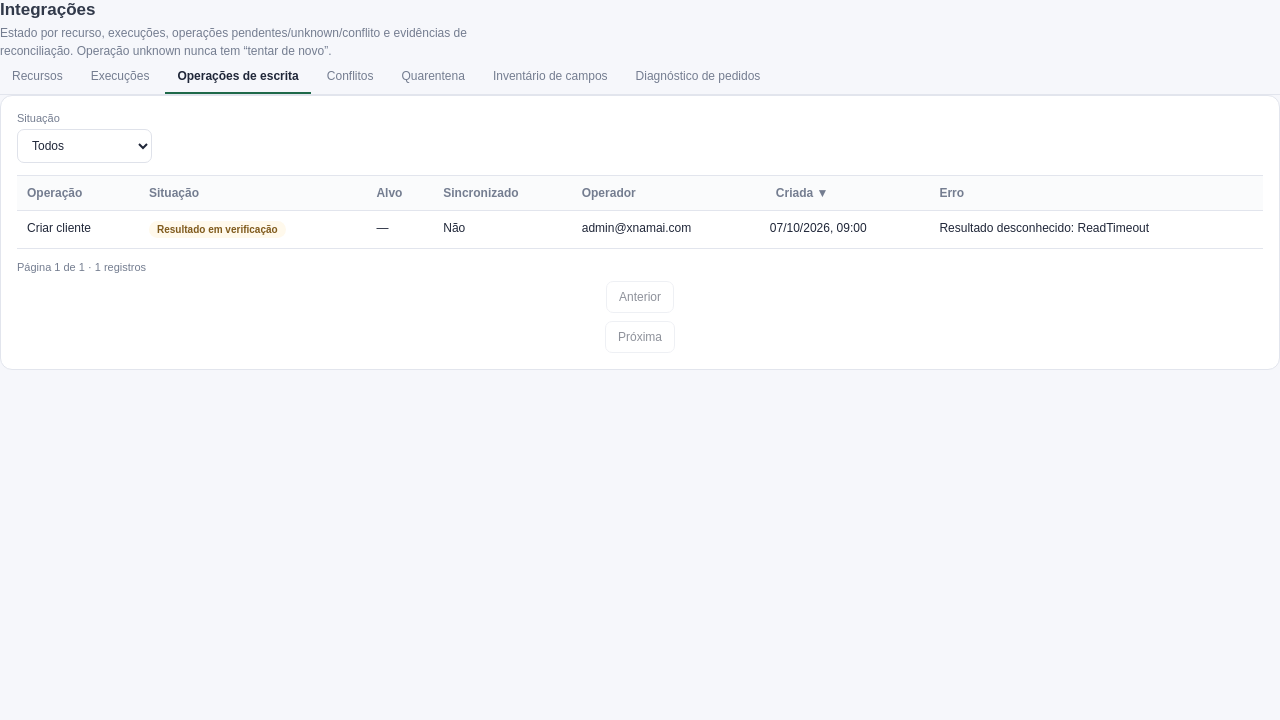
it: operação unknown na lista não oferece 'tentar de novo'; oferece reconciliar
Click the text "Criar cliente". click: (78, 230)
box: x1=17 y1=211 x2=139 y2=248
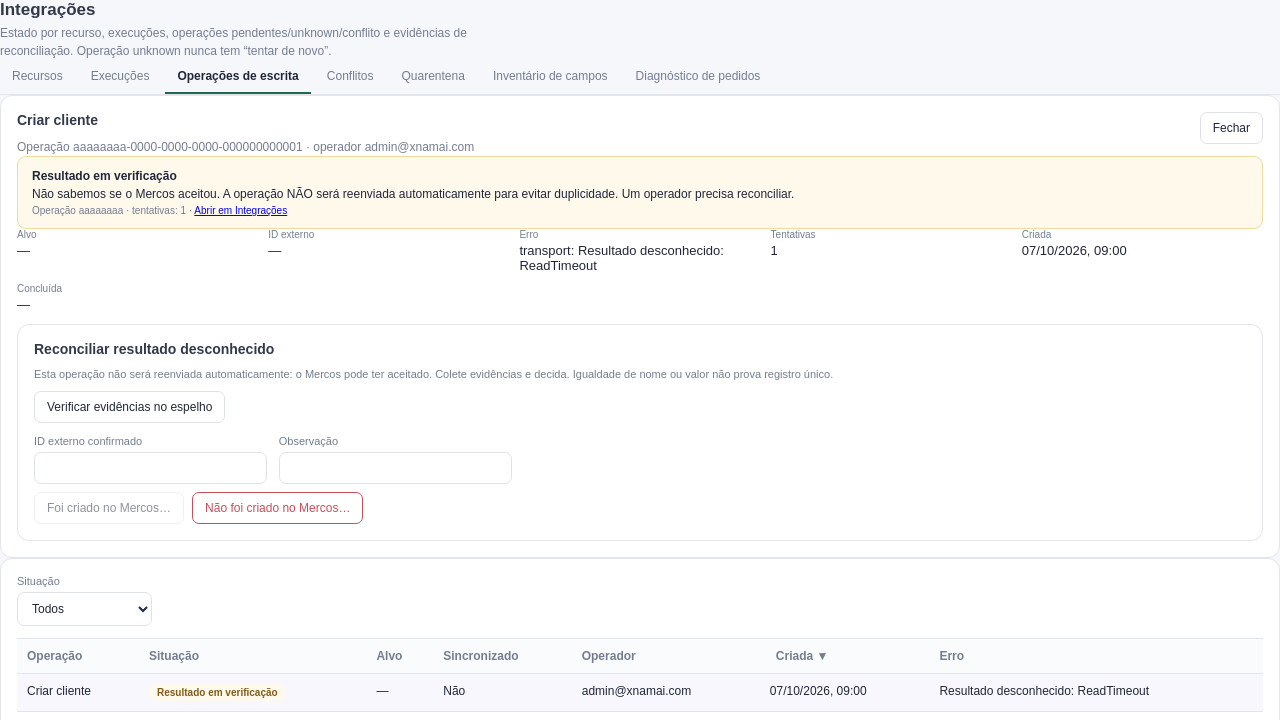
Now the heading "Reconciliar resultado desconhecido" is shown, box x1=34 y1=341 x2=274 y2=357
Now the text "NÃO será reenviada automaticamente" is shown, box x1=32 y1=187 x2=794 y2=201
Now the button "Verificar evidências no espelho" is shown, box x1=34 y1=391 x2=225 y2=423
confirmar decisão exige confirmação explícita
Type "55" into the field labelled "ID externo confirmado". click: (150, 468)
box: x1=34 y1=452 x2=267 y2=484
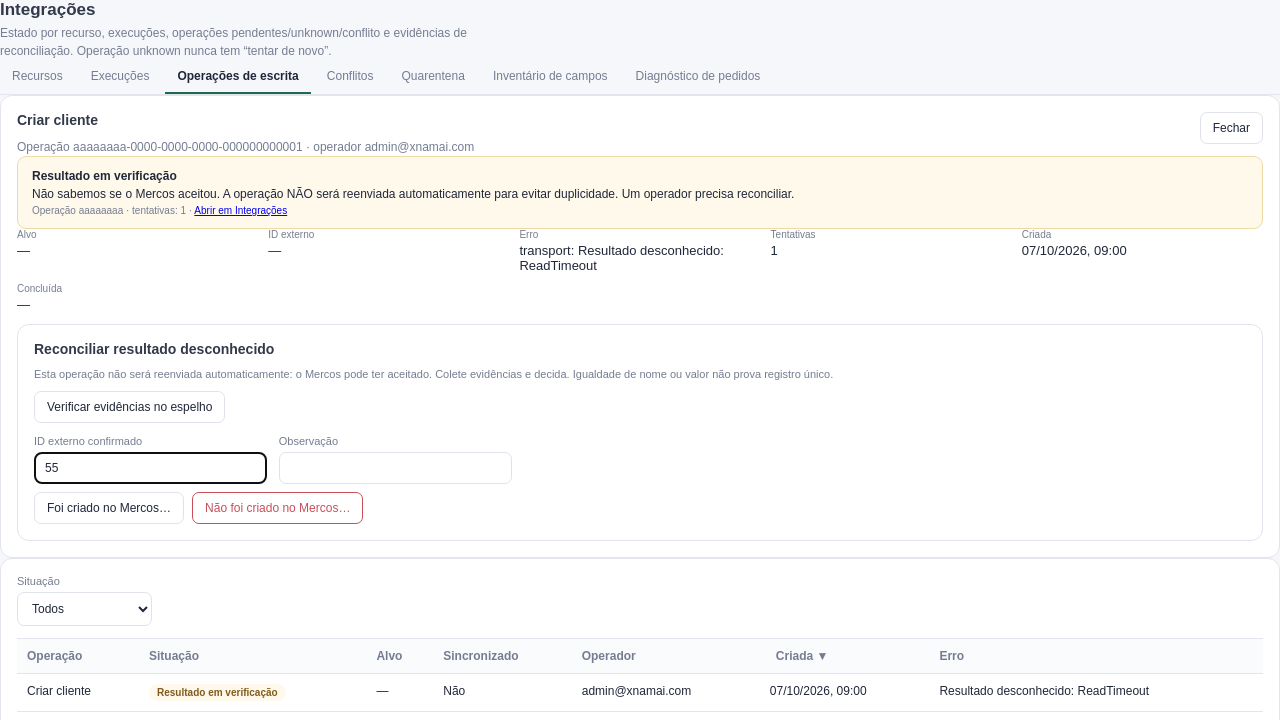
Click the button "Foi criado no Mercos…". click: (109, 508)
box: x1=34 y1=492 x2=184 y2=524
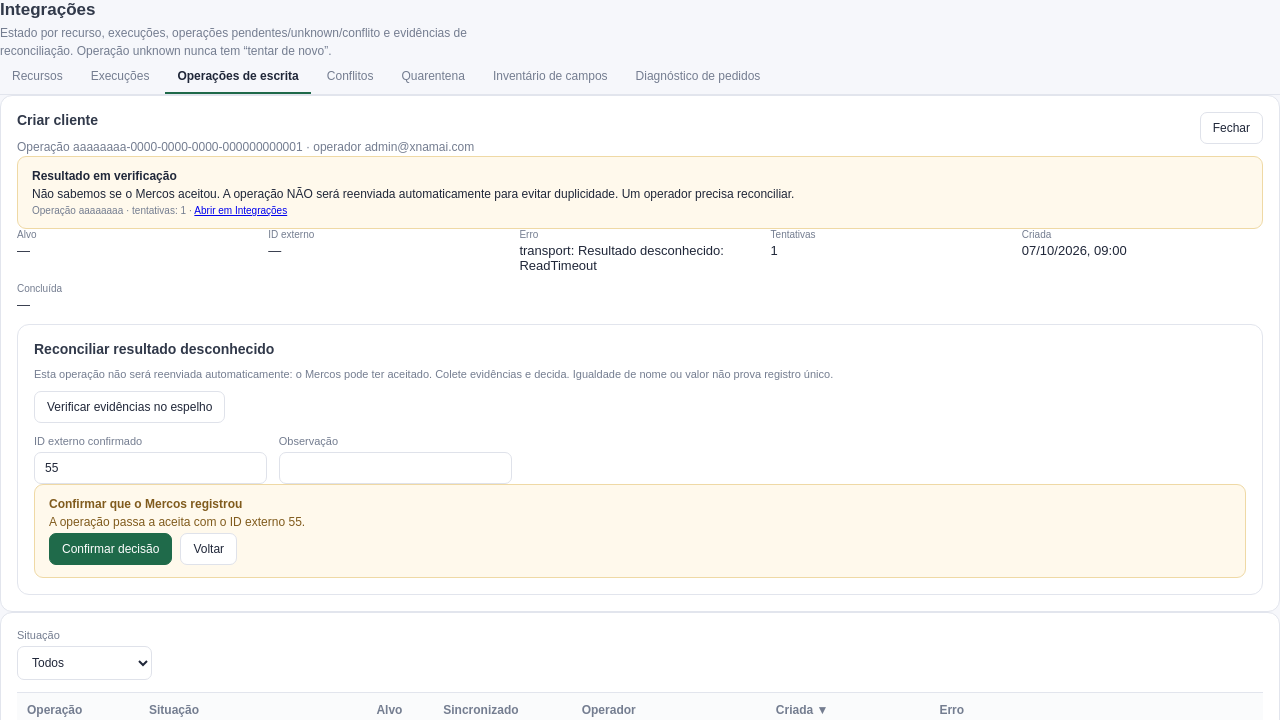
Now the text "Confirmar que o Mercos registrou" is shown, box x1=49 y1=497 x2=242 y2=511
